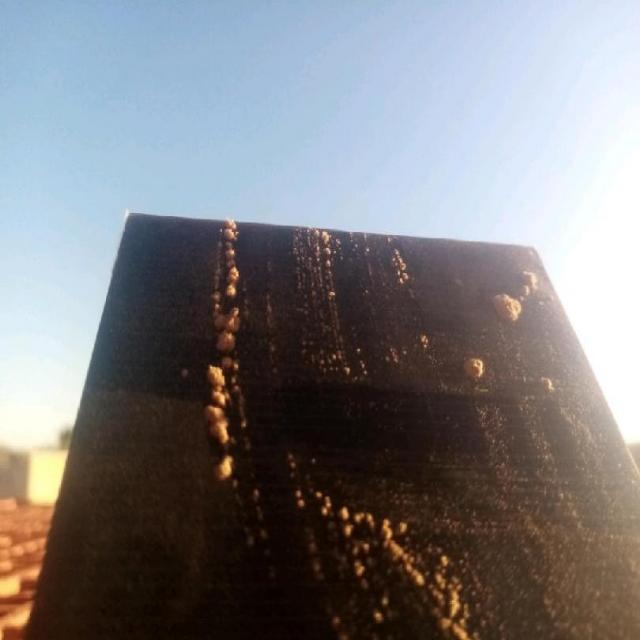faulty: (108, 212, 626, 640)
